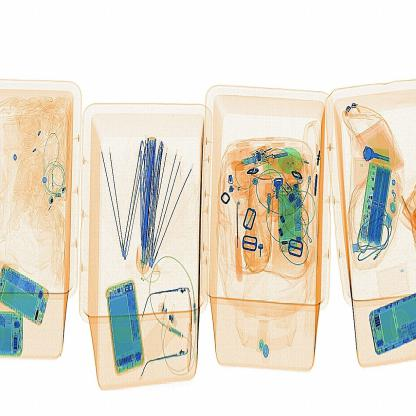wrench: (222, 201, 244, 285)
